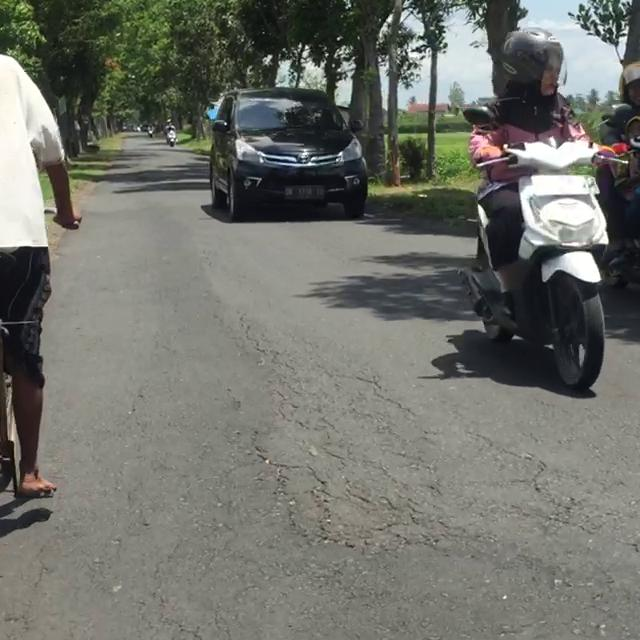retak_kulit_buaya: (254, 347, 449, 571)
